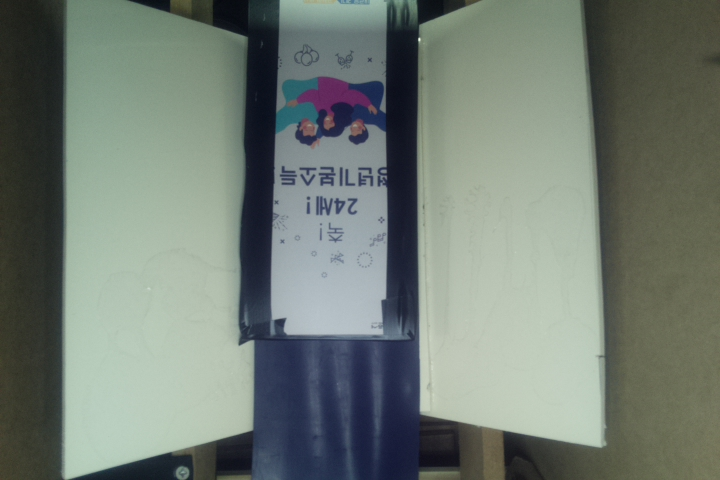book: (238, 1, 421, 346)
